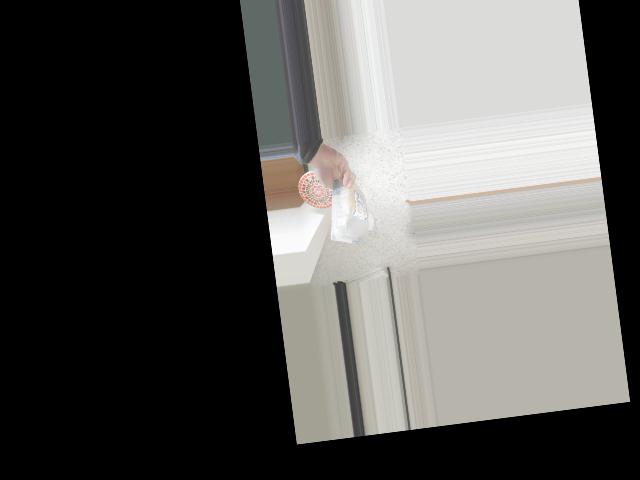cheese: (326, 178, 371, 247)
